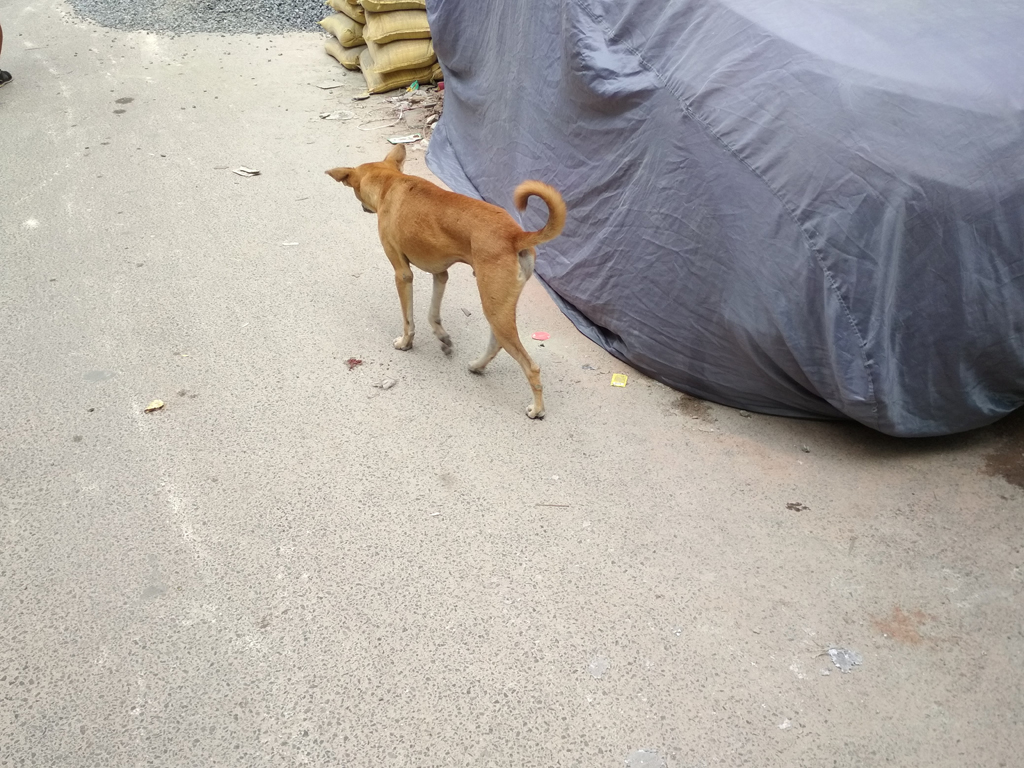dog: (326, 143, 569, 421)
